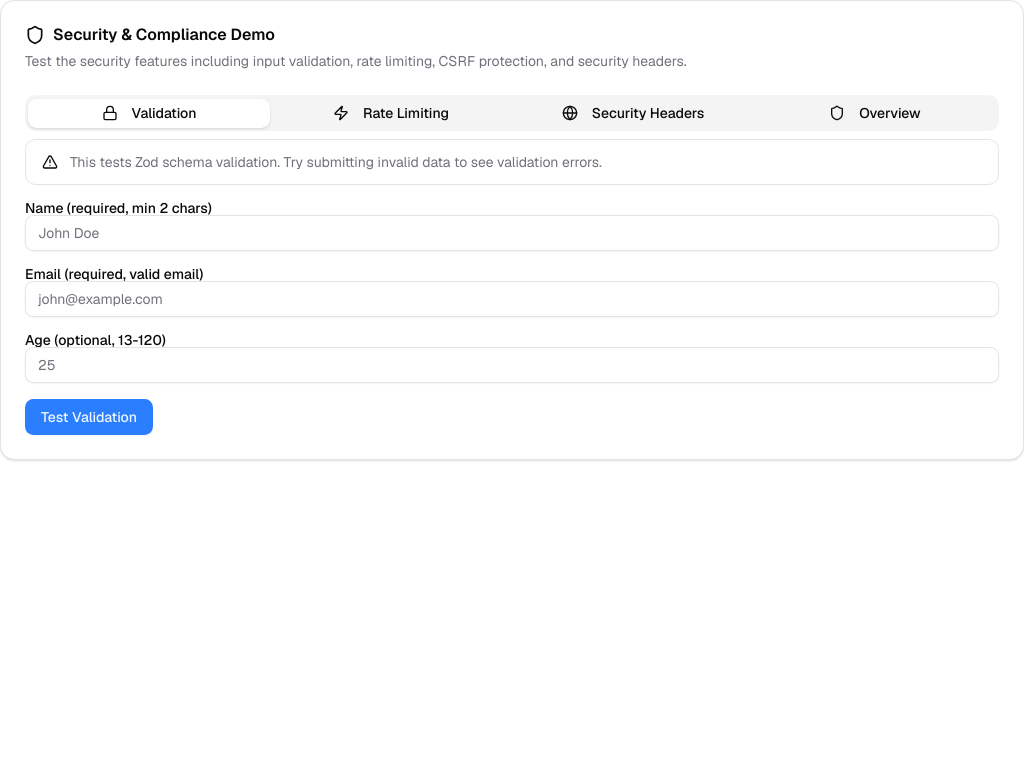
Test: SecurityDemo › switches to rate limiting tab and tests rate limiting
The width and height of the screenshot is (1024, 768).
Click the tab "Rate Limiting" at (391, 113), box 270,98 -> 512,128
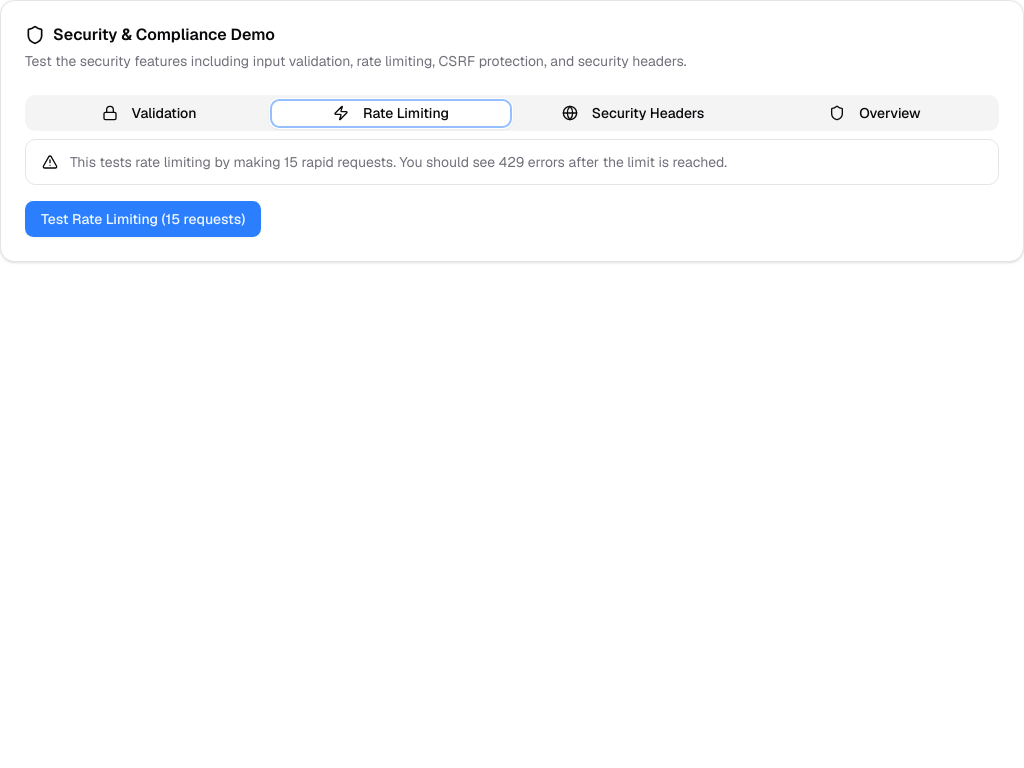
Click the button "Test Rate Limiting (15 requests)" at (143, 219), box 25,201 -> 261,237
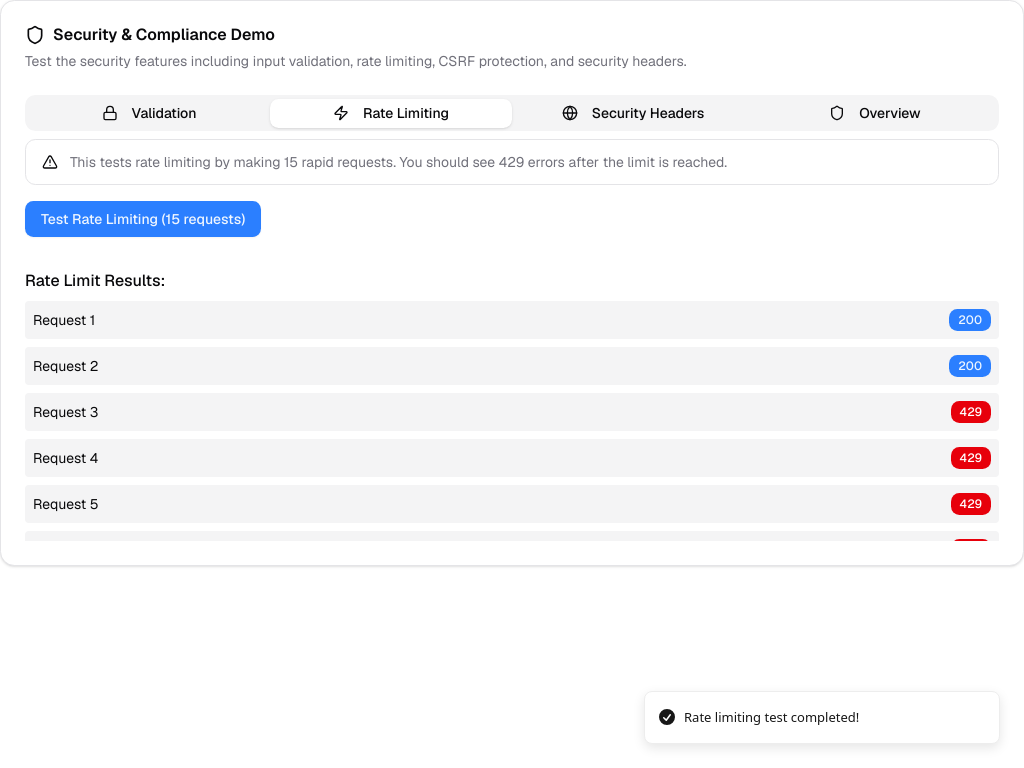
Check: the heading "Rate Limit Results:" is shown, box 25,270 -> 165,291
